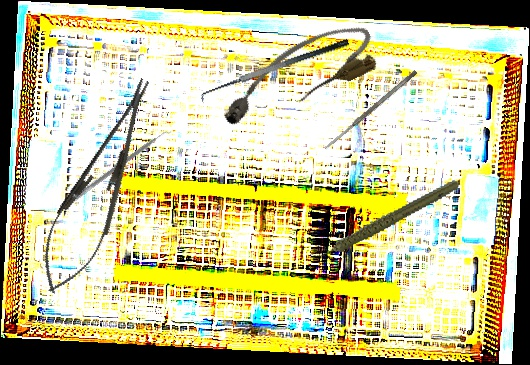Cannula: (208, 14, 385, 136)
Handpiece: (300, 178, 469, 261)
Needle Holder: (25, 68, 173, 305)
Spatula Surgical: (197, 38, 354, 107), (68, 125, 174, 209), (322, 69, 419, 151)
